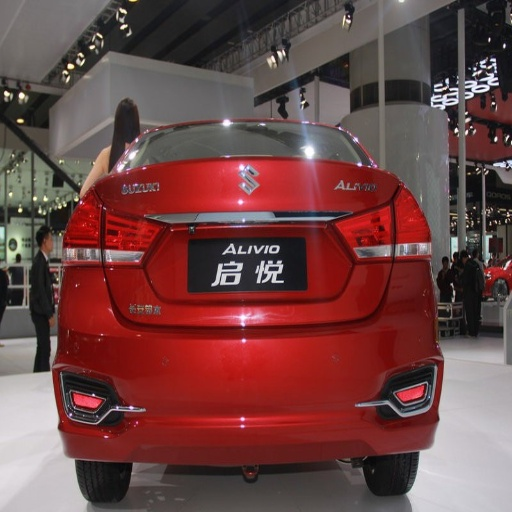back_bumper: (50, 255, 446, 469)
tailgate: (89, 158, 394, 325)
trunk: (102, 257, 291, 336), (246, 160, 350, 235)
